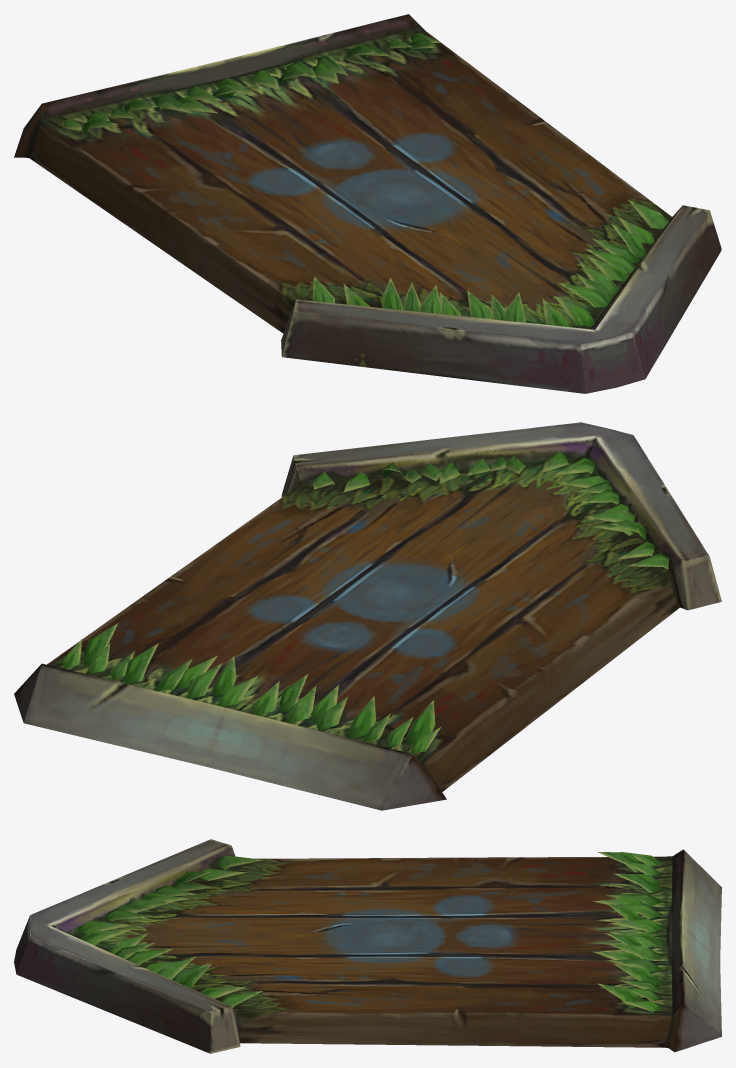
File: Set6_2.fbx
3 renders of one model, top to bottom at view 1: azimuth 30°, elevation 25°; view 2: azimuth 150°, elevation 25°; view 3: azimuth 270°, elevation 25°, orthographic. The views are drawn at different scales.
Visible parts, largest first — view 1: s6_2; view 2: s6_2; view 3: s6_2.
Boxes of the visible parts, x1=… form: s6_2: x1=14, y1=14, x2=721, y2=393; s6_2: x1=14, y1=422, x2=721, y2=810; s6_2: x1=14, y1=839, x2=721, y2=1053.
Size of the model in its own units: 0.6942 by 0.1775 by 1.13.
